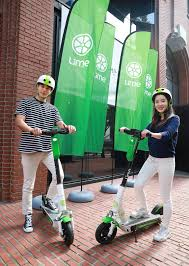kick_wheel: (95, 217, 117, 244), (61, 219, 74, 246)
